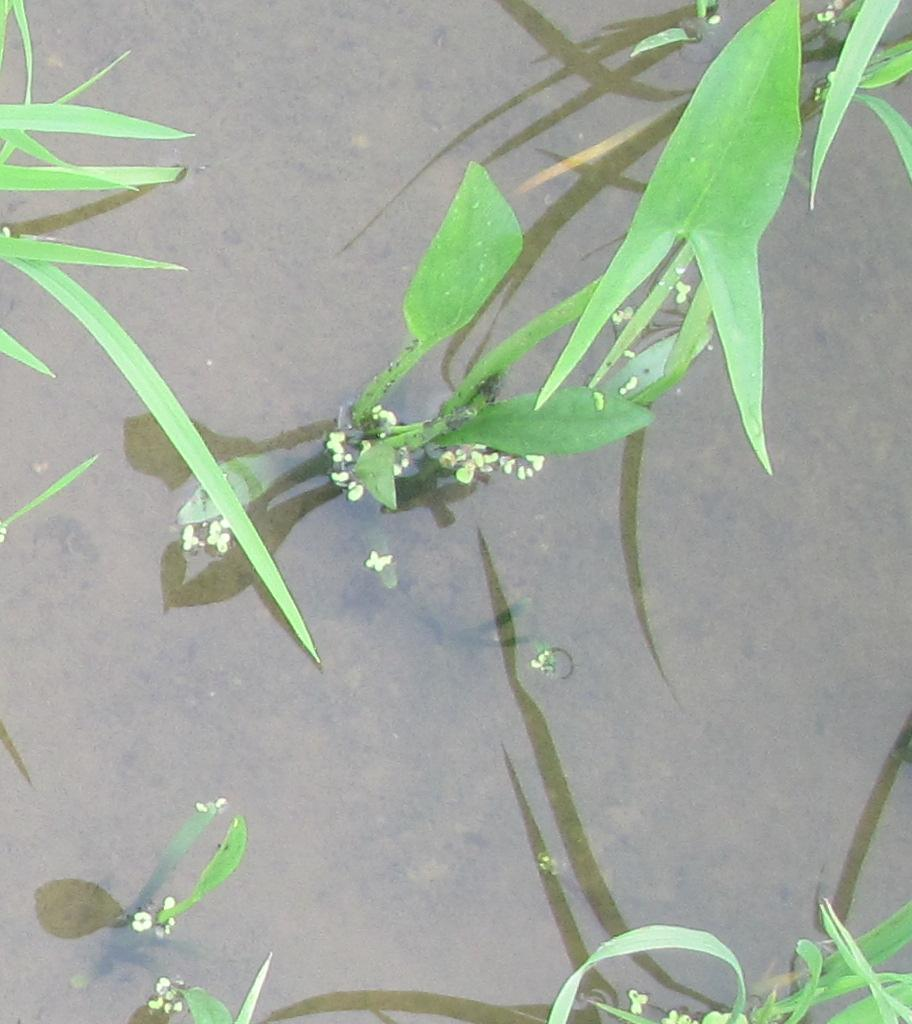Weed: (338, 164, 650, 475), (636, 2, 808, 307)
